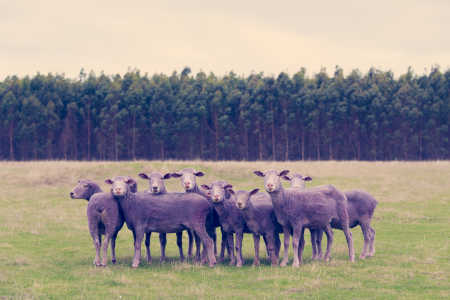sheep: (104, 175, 220, 267), (252, 168, 358, 265), (284, 167, 378, 257), (226, 184, 313, 271), (200, 179, 276, 268), (66, 177, 122, 266), (138, 170, 189, 260)
